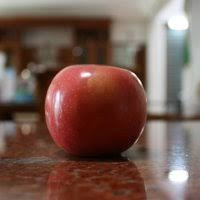apple: (46, 65, 145, 154)
